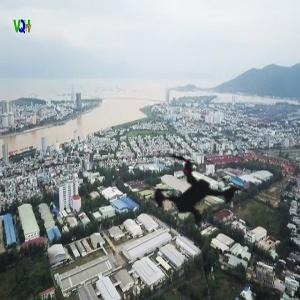drone: (116, 111, 276, 271)
